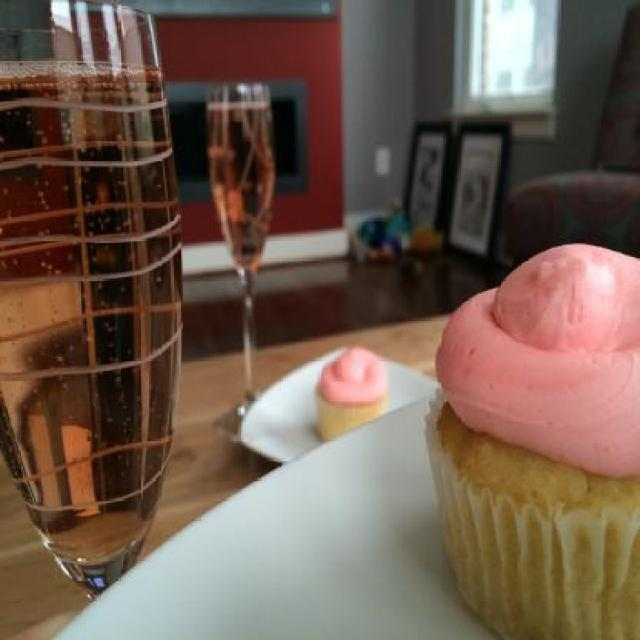Muffin: (424, 276, 640, 639), (313, 346, 390, 448)
